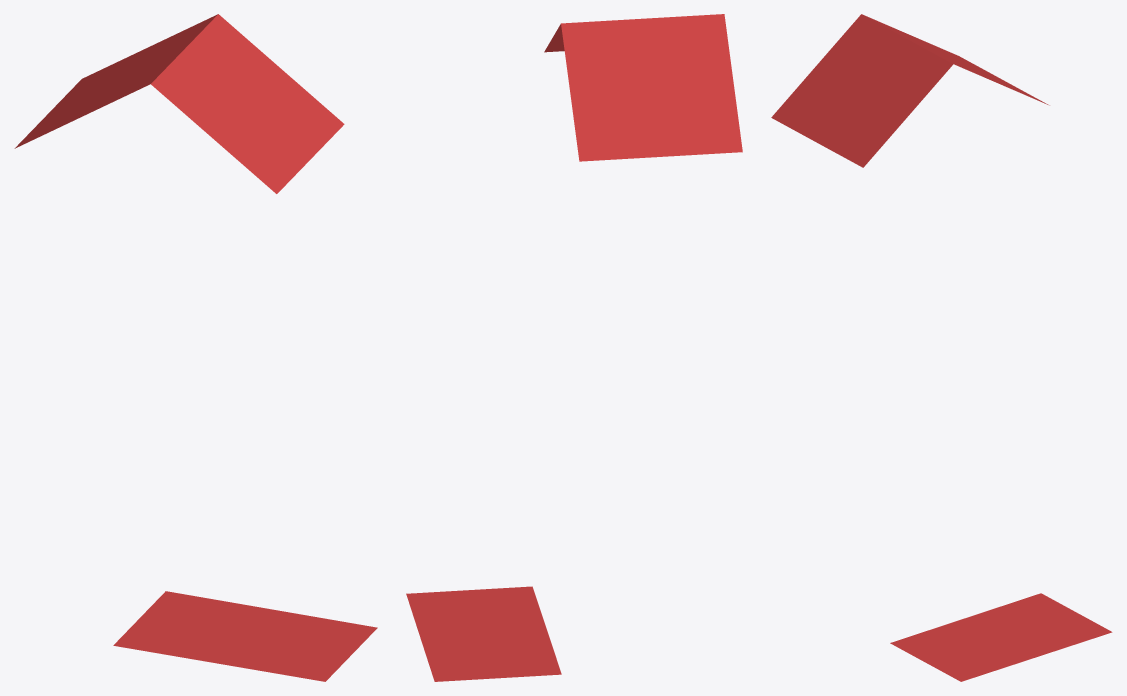
3 renders of one model, left to right at view 1: azimuth 30°, elevation 25°; view 2: azimuth 150°, elevation 25°; view 3: azimuth 270°, elevation 25°, orthographic. The views are drawn at different scales.
Bounding box in the file's own units: 7.69 × 7.43 × 13.22.
